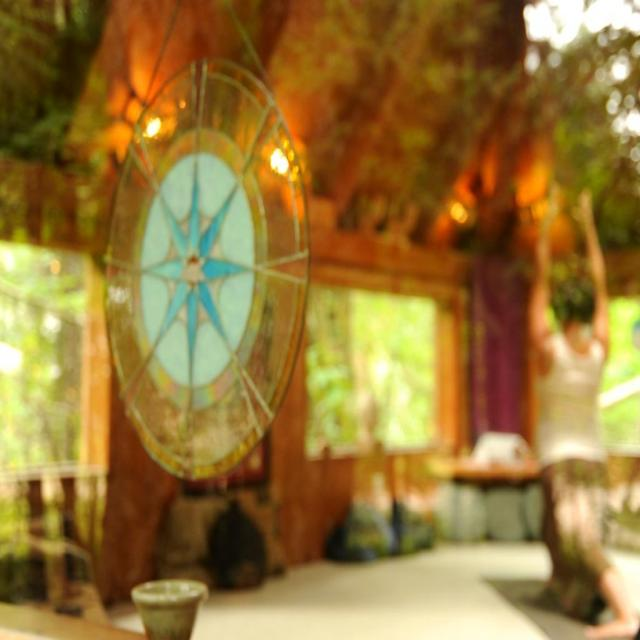Table: (0, 596, 149, 639)
